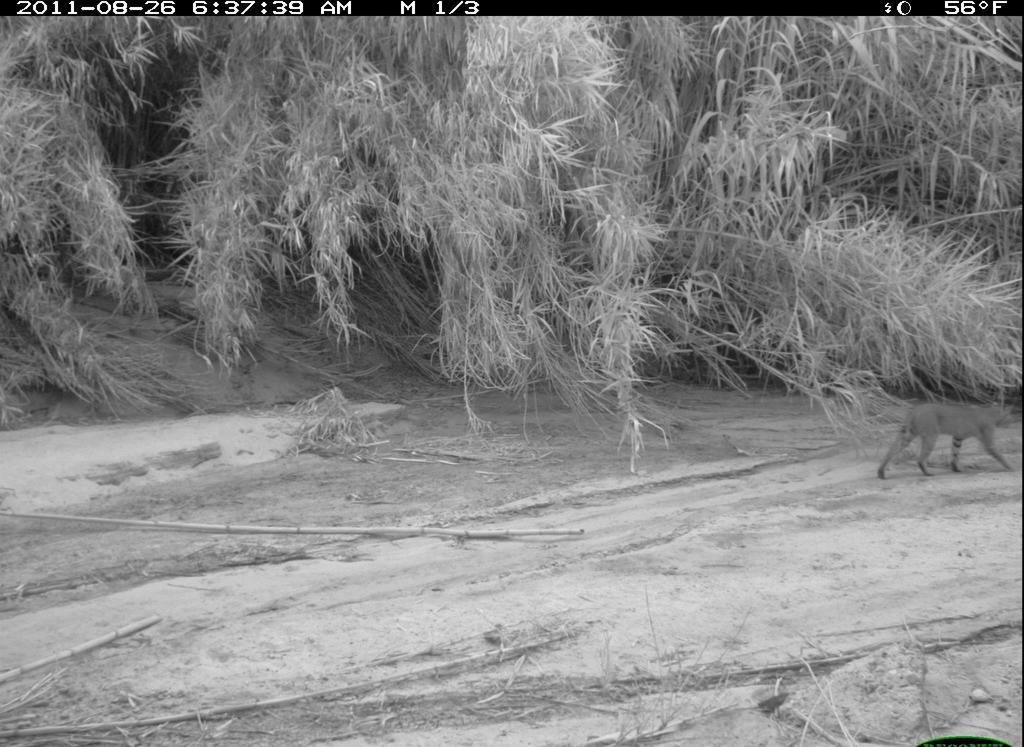bobcat: (861, 377, 1018, 486)
